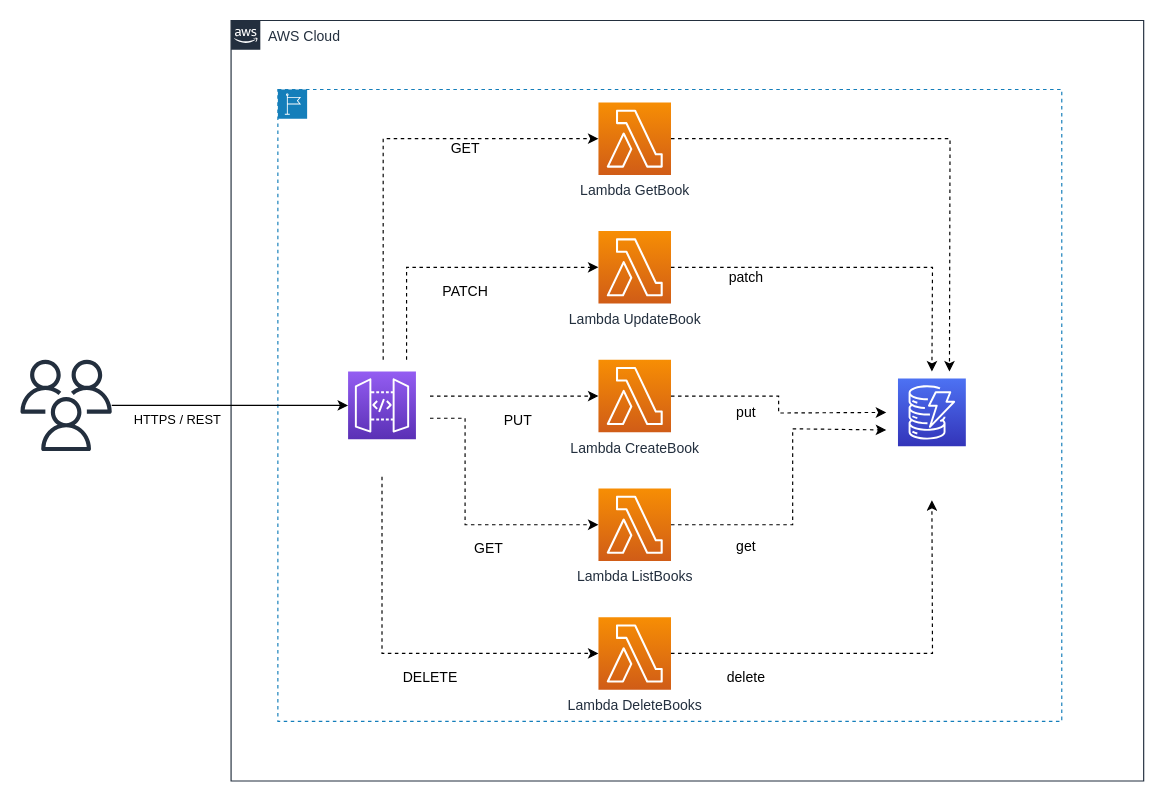
Some shapes in this 1164 by 801 pixel diagram are drawn without their labels. The box of each missing label's shape, as (x1, y1, x2, y2) in pixels:
API Gateway: (347, 370, 416, 439)
DynamoDB Table: (897, 377, 966, 446)
Region: (277, 88, 1062, 721)
